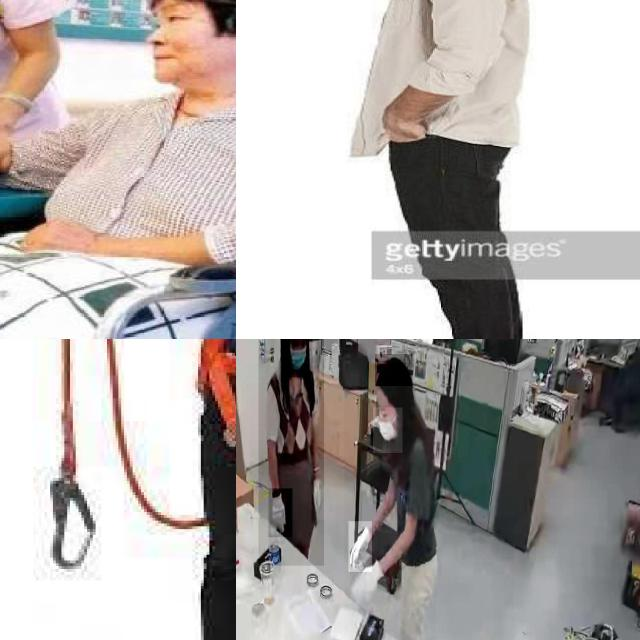face_mask: (373, 407, 403, 453), (284, 339, 312, 377)
face_nomask: (129, 4, 214, 88)
hand_glove: (353, 563, 385, 617), (348, 521, 372, 572), (269, 488, 293, 538), (311, 475, 323, 524)
hand_noglove: (15, 214, 97, 260)
head_nohelmet: (375, 354, 413, 387)
person: (0, 0, 236, 339), (346, 0, 533, 339), (344, 356, 435, 640), (258, 339, 324, 566)
